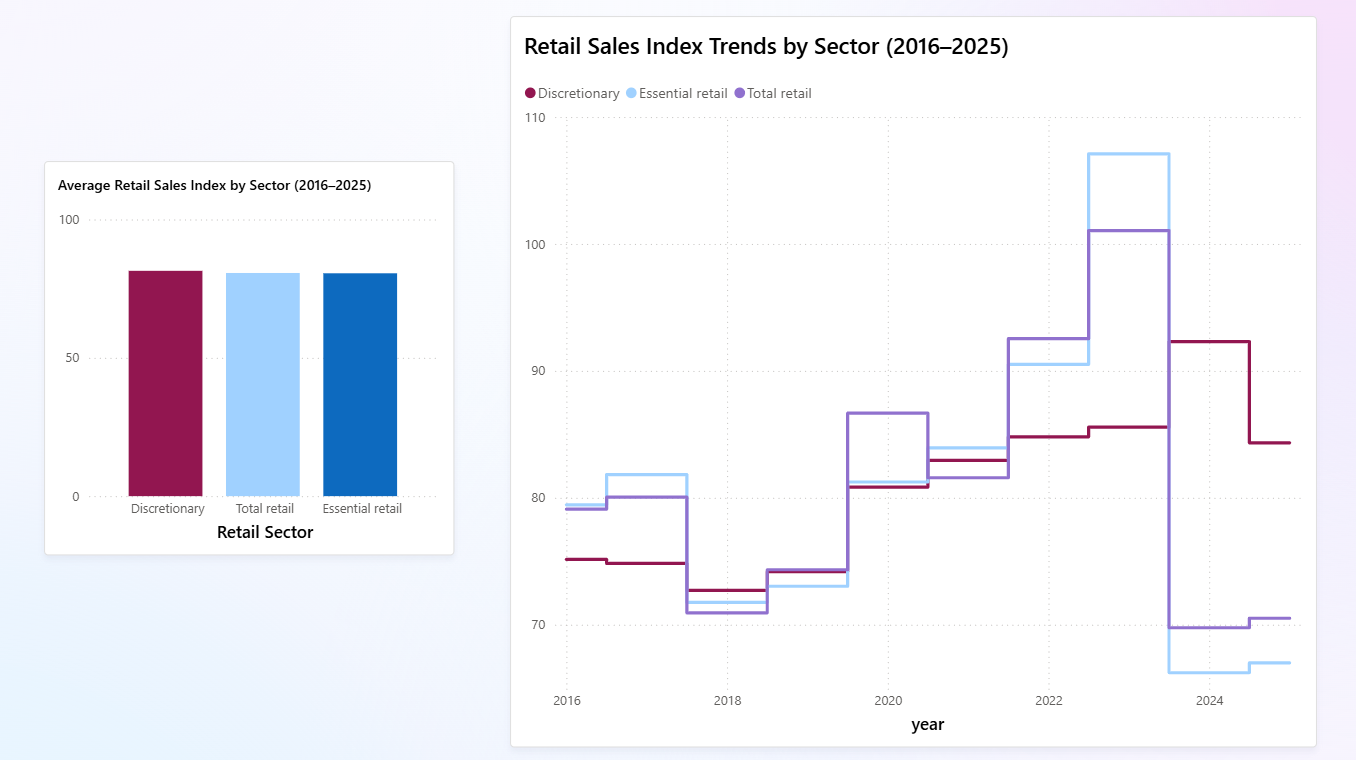

Layout of this report page (visuals, bound fields, positions):
{"tool":"powerbi","page":{"name":"Sector Comparison","canvas":[1280,720],"ordinal":1},"visuals":[{"type":"clusteredColumnChart","title":"Average Retail Sales Index by Sector (2016–2025)","fields":{"Category":["final_dataset.sector_type"],"Y":["Avg(final_dataset.sales_value)"]},"box":[41.9,152.1,385.6,371.2],"z":0},{"type":"lineChart","title":"Retail Sales Index Trends by Sector (2016–2025)","fields":{"Category":["final_dataset.year"],"Y":["Avg(final_dataset.sales_value)"],"Series":["final_dataset.sector_type"]},"box":[480.1,15.6,759.1,688.5],"z":1000}]}

Visuals, with their boxes in screenshot pixels (x1, y1, x2, y2), scaled from the page's 1280x720 canvas onto the 1356x760 screenshot:
"Average Retail Sales Index by Sector (2016–2025)" clusteredColumnChart: {"left": 44, "top": 161, "right": 453, "bottom": 552}
"Retail Sales Index Trends by Sector (2016–2025)" lineChart: {"left": 509, "top": 16, "right": 1313, "bottom": 743}
